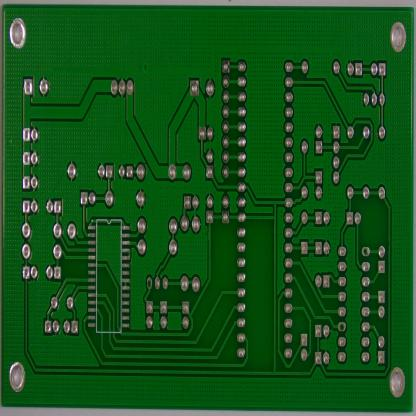missing_hole: (145, 274, 153, 292), (337, 320, 347, 334), (361, 244, 370, 259)
